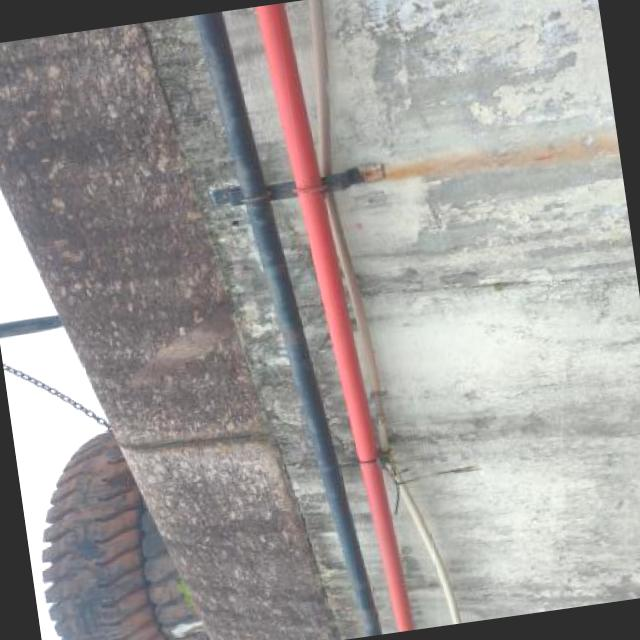gas: (194, 11, 380, 637), (253, 2, 412, 632)
